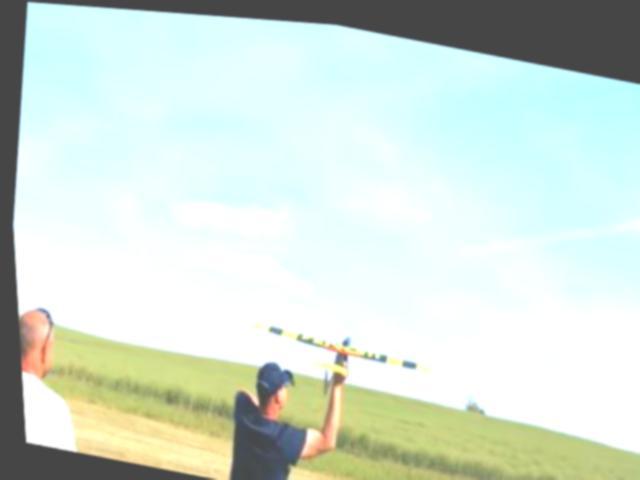uav: (233, 301, 446, 407)
